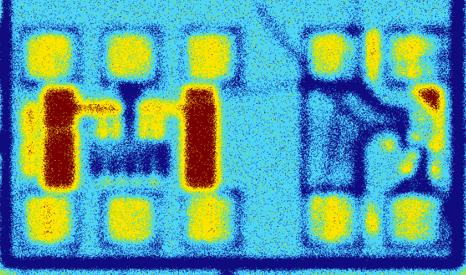Pad 3: (26, 198, 71, 244), (27, 34, 71, 79), (107, 34, 152, 78), (187, 35, 232, 79), (309, 196, 352, 242), (108, 198, 152, 242), (392, 198, 434, 241), (188, 197, 229, 241), (393, 36, 434, 77), (312, 35, 351, 75)
